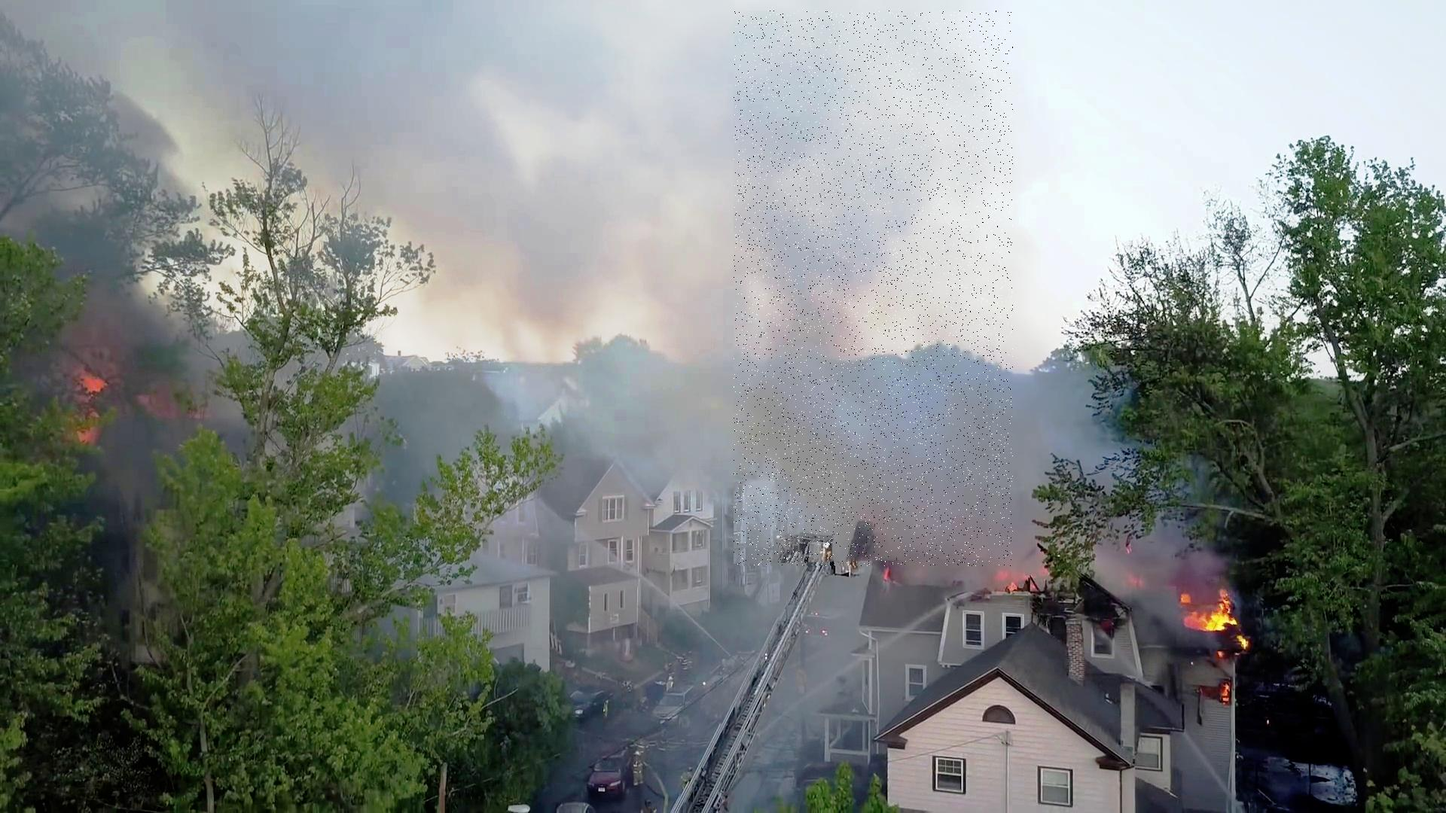fire: (1177, 574, 1248, 645)
smoke: (734, 11, 1013, 567)
